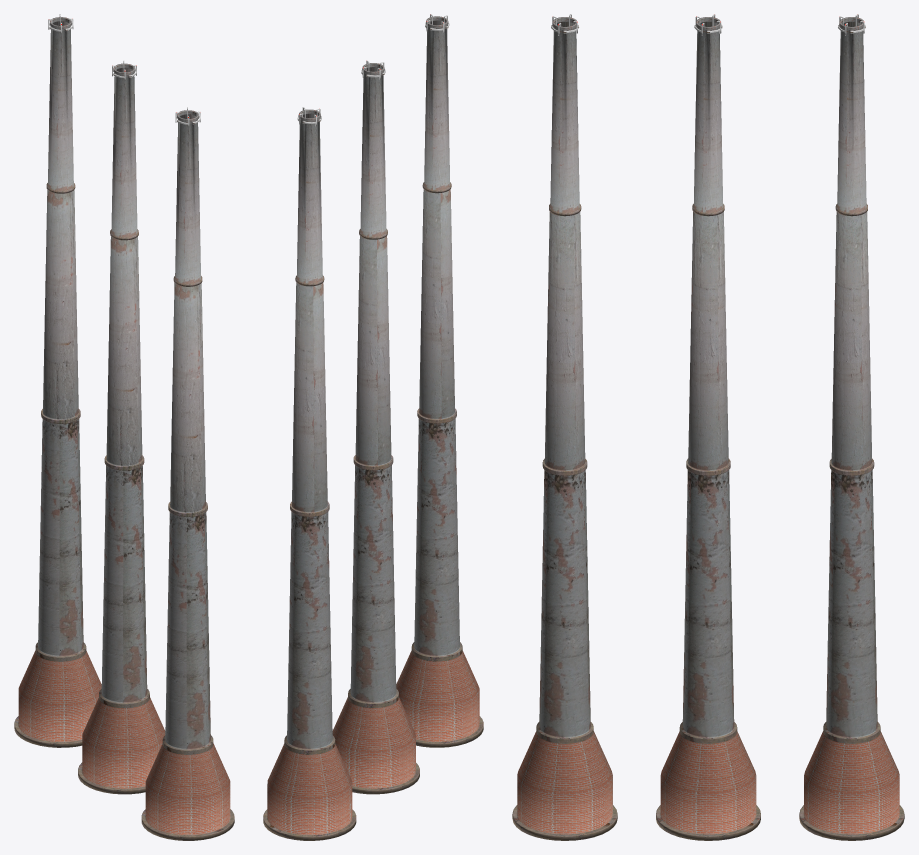
File: Chimneys.fbx
3 views of the same model, side by side, from view 1: azimuth 30°, elevation 25°; view 2: azimuth 150°, elevation 25°; view 3: azimuth 270°, elevation 25° (orthographic). The views are drawn at different scales.
Parts seen in each view (by area): view 1: Object_3.001, Object_2.001, Object_4.001, Object_5.001; view 2: Object_3.001, Object_2.001, Object_4.001, Object_5.001; view 3: Object_3.001, Object_2.001, Object_4.001.
Boxes of the visible parts, x1,y1,x2,y2 form: Object_3.001: (38, 17, 210, 749); Object_2.001: (18, 650, 230, 835); Object_4.001: (14, 28, 234, 840); Object_5.001: (48, 14, 200, 127); Object_3.001: (287, 16, 459, 749); Object_2.001: (267, 651, 479, 834); Object_4.001: (263, 27, 483, 840); Object_5.001: (297, 14, 449, 126); Object_3.001: (539, 17, 877, 737); Object_2.001: (517, 731, 899, 834); Object_4.001: (512, 26, 904, 840).
Bounding box in the file's own units: 220 × 1845 × 820.
